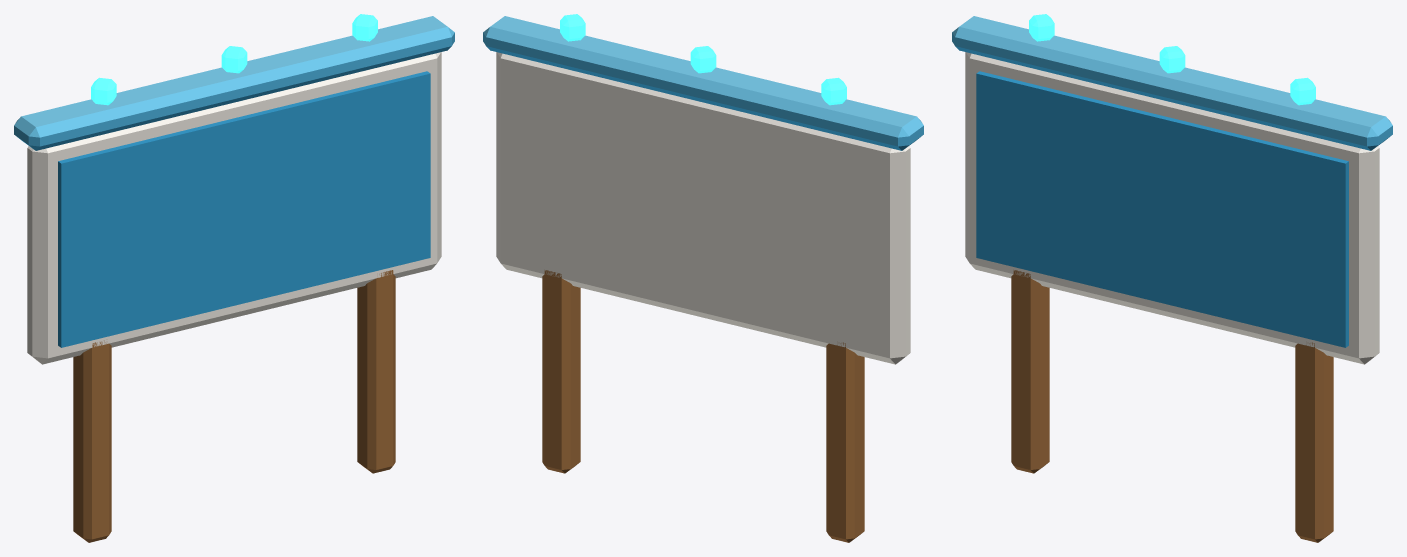
File: OwnerBoard_7.glb
3 renders of one model, left to right at view 1: azimuth 30°, elevation 25°; view 2: azimuth 150°, elevation 25°; view 3: azimuth 330°, elevation 25°, orthographic.
Parts seen in each view (by area): view 1: OwnerBoard_7, OwnerBoard_7_Glow_acc7; view 2: OwnerBoard_7, OwnerBoard_7_Glow_acc7; view 3: OwnerBoard_7, OwnerBoard_7_Glow_acc7.
Boxes of the visible parts, box(x1,y1,x2,y2) form: OwnerBoard_7: box(14, 16, 454, 542); OwnerBoard_7_Glow_acc7: box(91, 14, 377, 105); OwnerBoard_7: box(483, 16, 923, 542); OwnerBoard_7_Glow_acc7: box(560, 14, 846, 105); OwnerBoard_7: box(952, 16, 1392, 542); OwnerBoard_7_Glow_acc7: box(1029, 14, 1315, 105).
Bounding box in the file's own units: 15 × 15.25 × 1.4.
2 materials, 1 textured.
